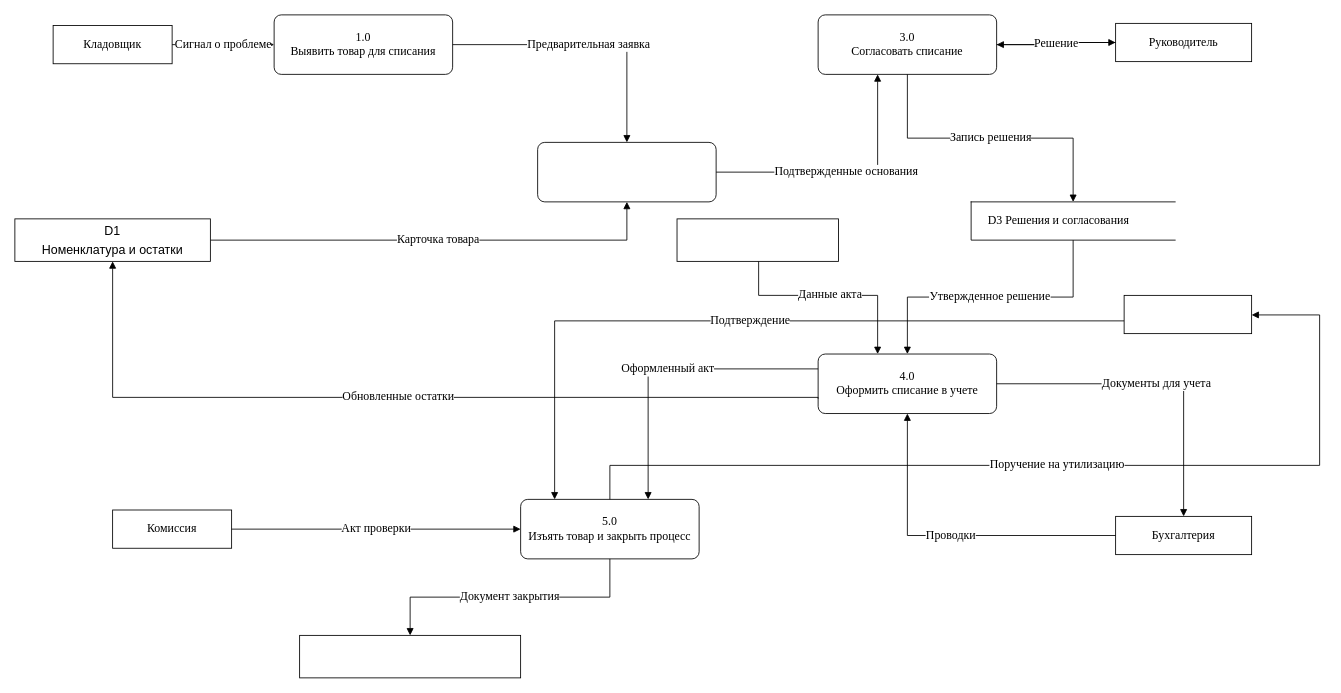
Image size: 1341x693. Some labels were removed from this diagram. Here are the shapes that lost their labels. From the top down, the centre of each, then its label:
At point (626, 172): "2.0 Проверить основания и данные".
At point (757, 239): "D2 Заявки и акты списания".
At point (1187, 314): "Утилизатор".
At point (410, 656): "D4 Подтверждения утилизации".
